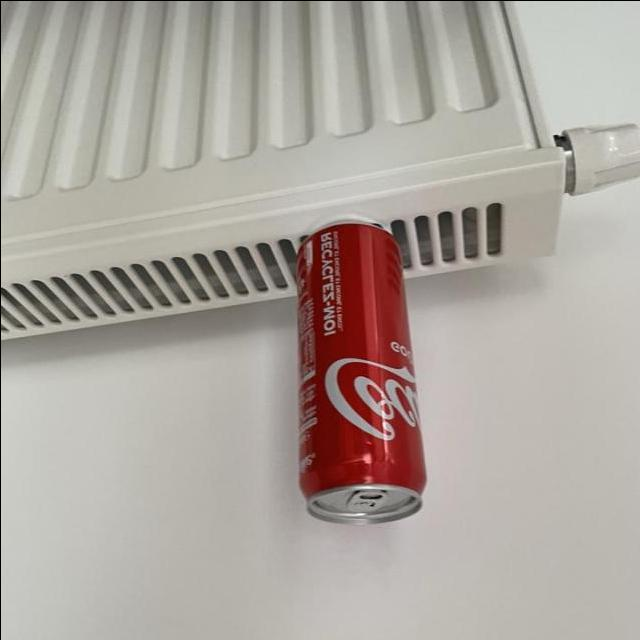can: (292, 203, 432, 532)
